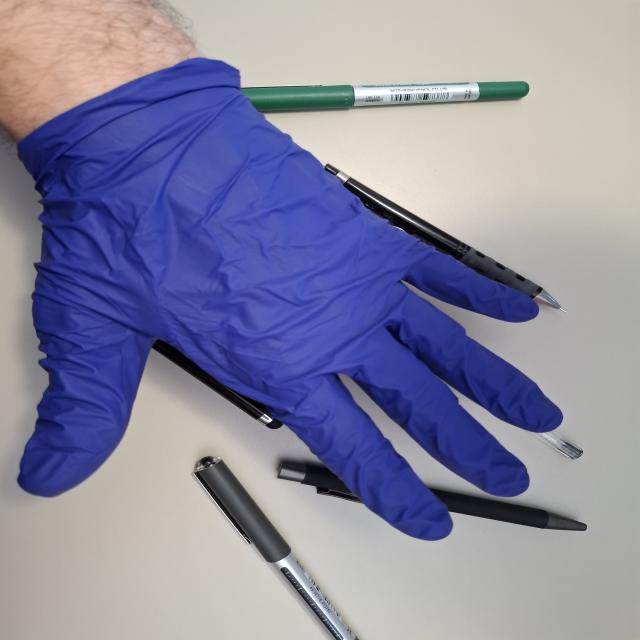glove_on: (15, 59, 568, 542)
